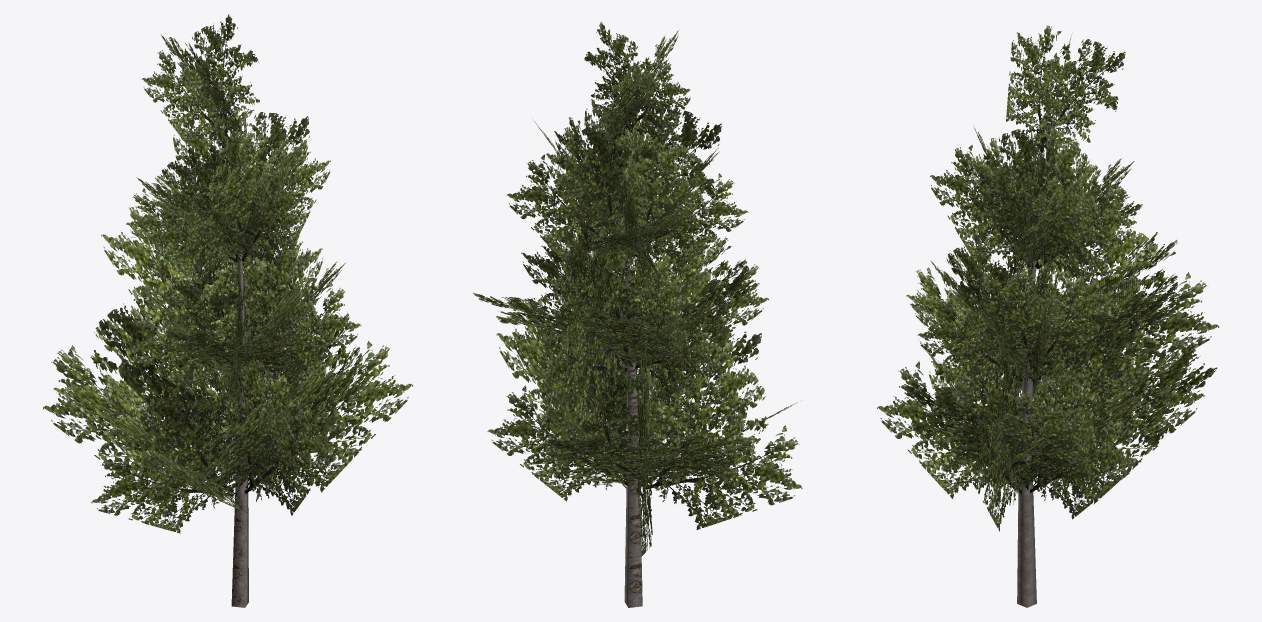
File: ArbolVR2.fbx
3 renders of one model, left to right at view 1: azimuth 30°, elevation 25°; view 2: azimuth 150°, elevation 25°; view 3: azimuth 270°, elevation 25°, orthographic. The views are drawn at different scales.
Visible parts, largest first — view 1: Tree; view 2: Tree; view 3: Tree.
Boxes of the visible parts, <box> form: Tree: <box>43,14,413,607</box>; Tree: <box>473,22,802,607</box>; Tree: <box>877,25,1219,607</box>.
Bounding box in the file's own units: 13.07 × 20.81 × 13.
